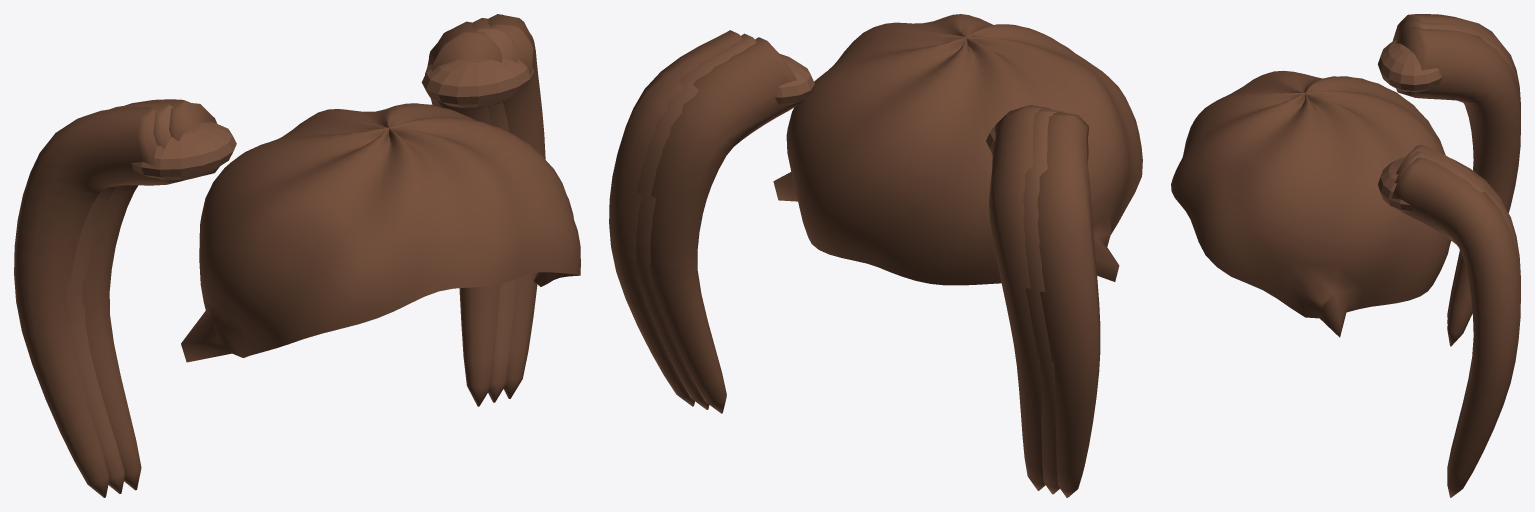
3 renders of one model, left to right at view 1: azimuth 30°, elevation 25°; view 2: azimuth 150°, elevation 25°; view 3: azimuth 270°, elevation 25°, orthographic. The views are drawn at different scales.
Visible parts, largest first — view 1: Twin Tails; view 2: Twin Tails; view 3: Twin Tails.
Part boxes in pixels (x1,y1,x2,y2): Twin Tails: (14,14,580,497); Twin Tails: (609,14,1142,497); Twin Tails: (1171,14,1520,497).
Size of the model in its own units: 1.52 by 1.09 by 1.06.
